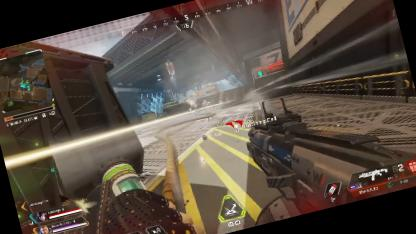Target: (200, 97, 214, 121), (183, 91, 199, 112)
